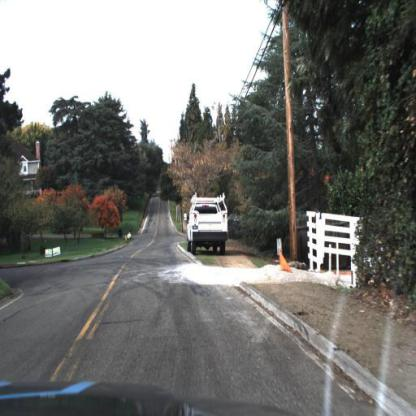car: (182, 187, 235, 260), (187, 192, 234, 258)
